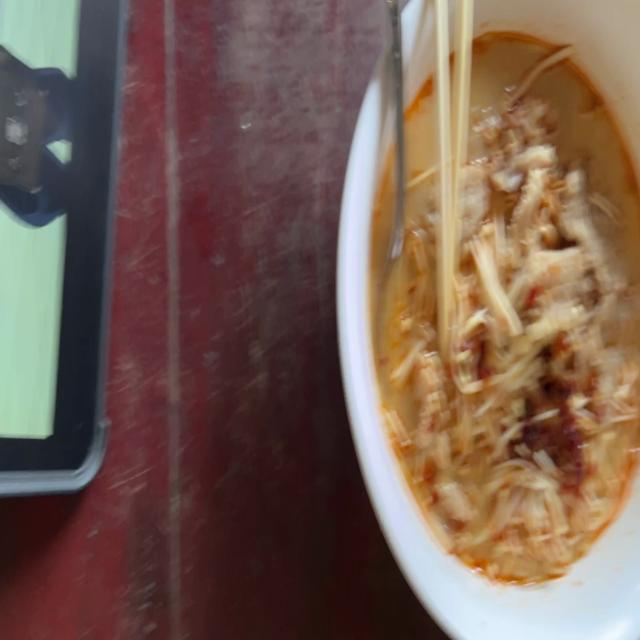noodle: (368, 29, 640, 590)
